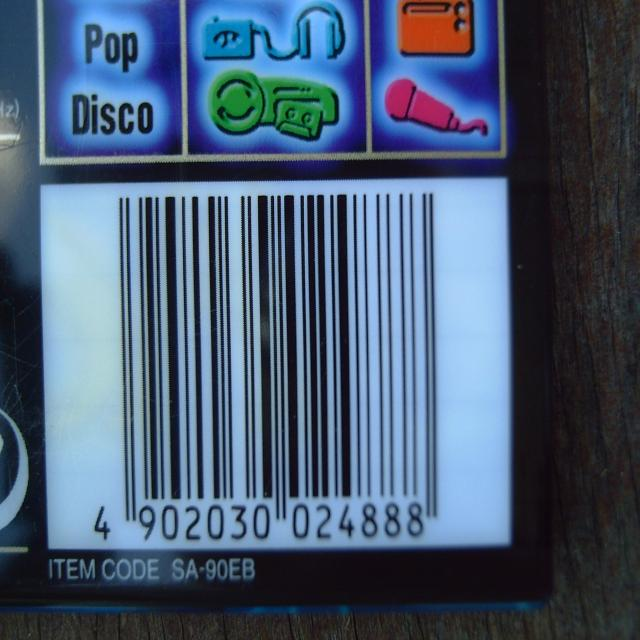barcode: (41, 178, 511, 550)
